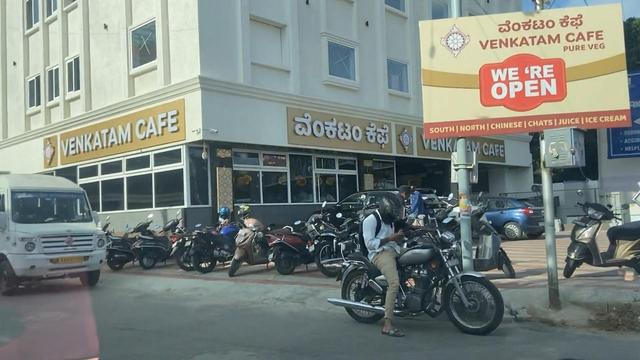HMV: (0, 175, 104, 292)
LMV: (349, 205, 486, 329), (141, 217, 174, 271), (229, 219, 258, 273)
RoadDamages: (4, 302, 84, 327)
